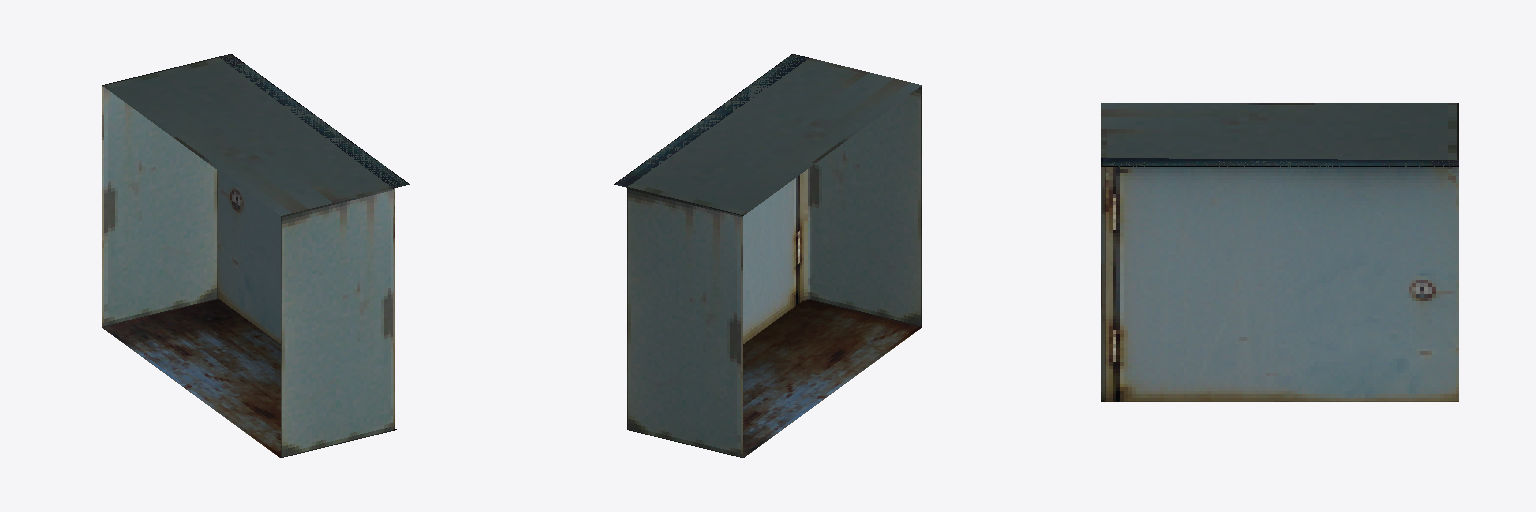
3 views of the same model, side by side, from view 1: azimuth 30°, elevation 25°; view 2: azimuth 150°, elevation 25°; view 3: azimuth 270°, elevation 25° (orthographic).
Parts seen in each view (by area): view 1: Electric03; view 2: Electric03; view 3: Electric03.
Part boxes in pixels (left/top/right/bottom): Electric03: left=102, top=54, right=409, bottom=457; Electric03: left=614, top=54, right=921, bottom=457; Electric03: left=1101, top=103, right=1458, bottom=401.
Bounding box in the file's own units: 3 × 5.35 × 7.16.
1 materials, 1 textured.